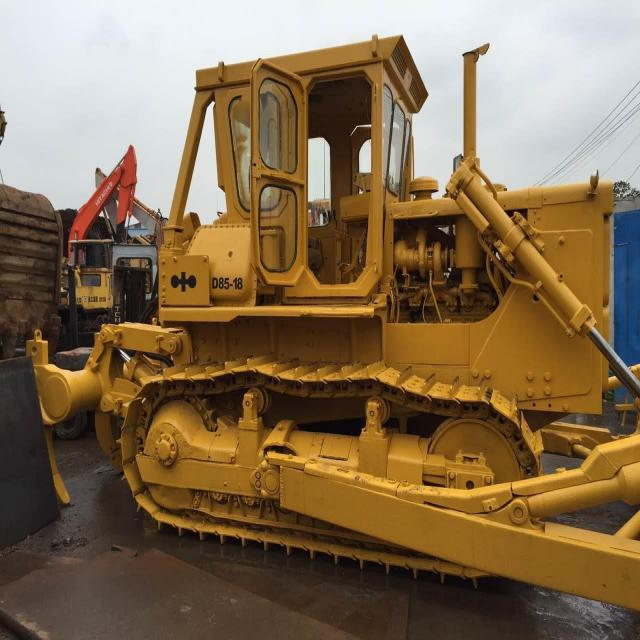Bulldozer: (31, 30, 639, 609)
